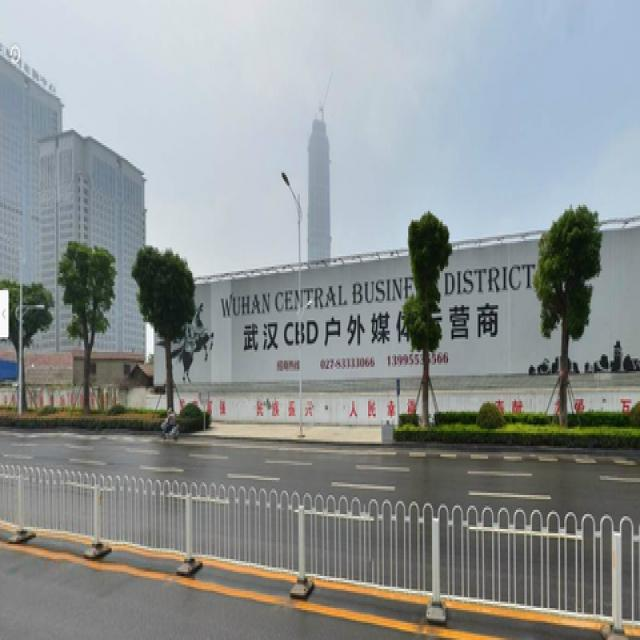cinn: (533, 209, 600, 414), (396, 220, 452, 420), (131, 250, 192, 418), (63, 235, 105, 416)
